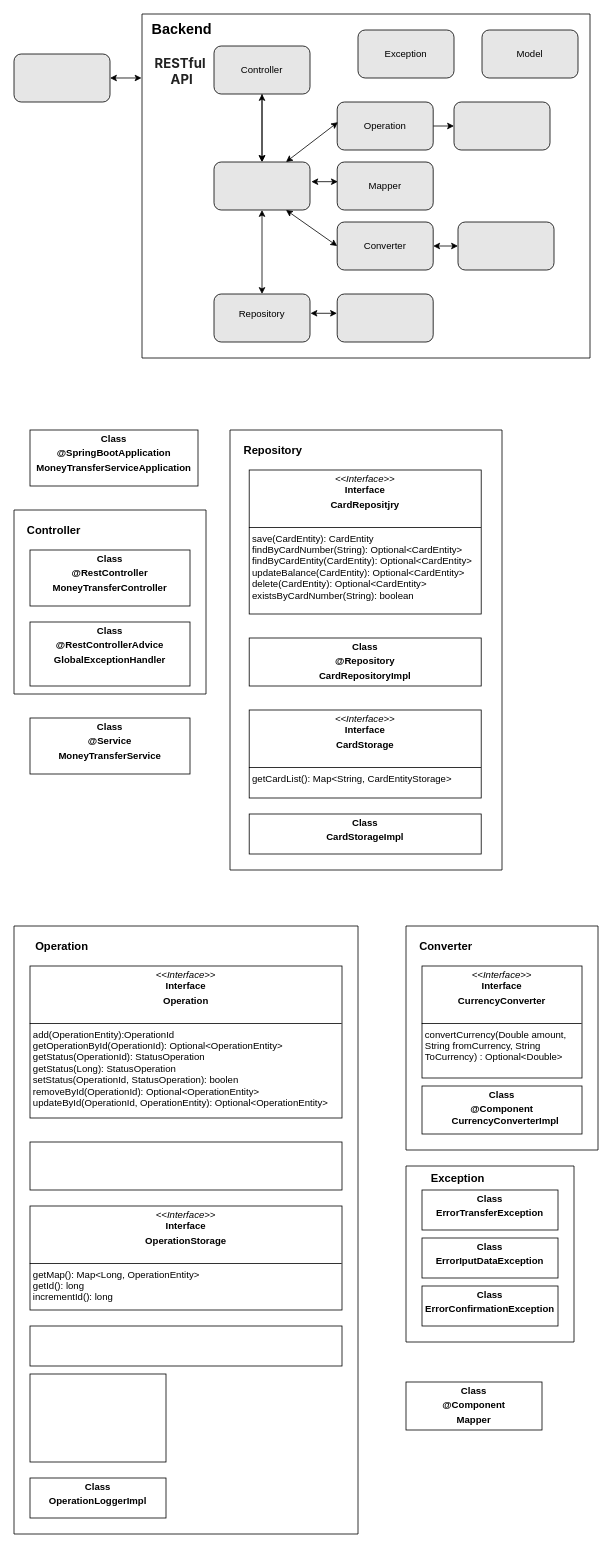
Some shapes in this 612 by 1548 pixel diagram are drawn without their labels. Here are the shapes that lost their labels. From the top down, the box of each, then its label:
(13, 53, 110, 102): Frontend
(453, 101, 550, 150): Logger
(213, 161, 310, 210): Service
(457, 221, 554, 270): Service currently converter
(336, 293, 433, 342): Card storage
(29, 1141, 342, 1190): Class @Component OperationImpl
(29, 1325, 342, 1366): Class OperationStorageImpl
(29, 1373, 166, 1462): <<Interface>> Interface OperationLogger logWrite(OperationInfo) : void
